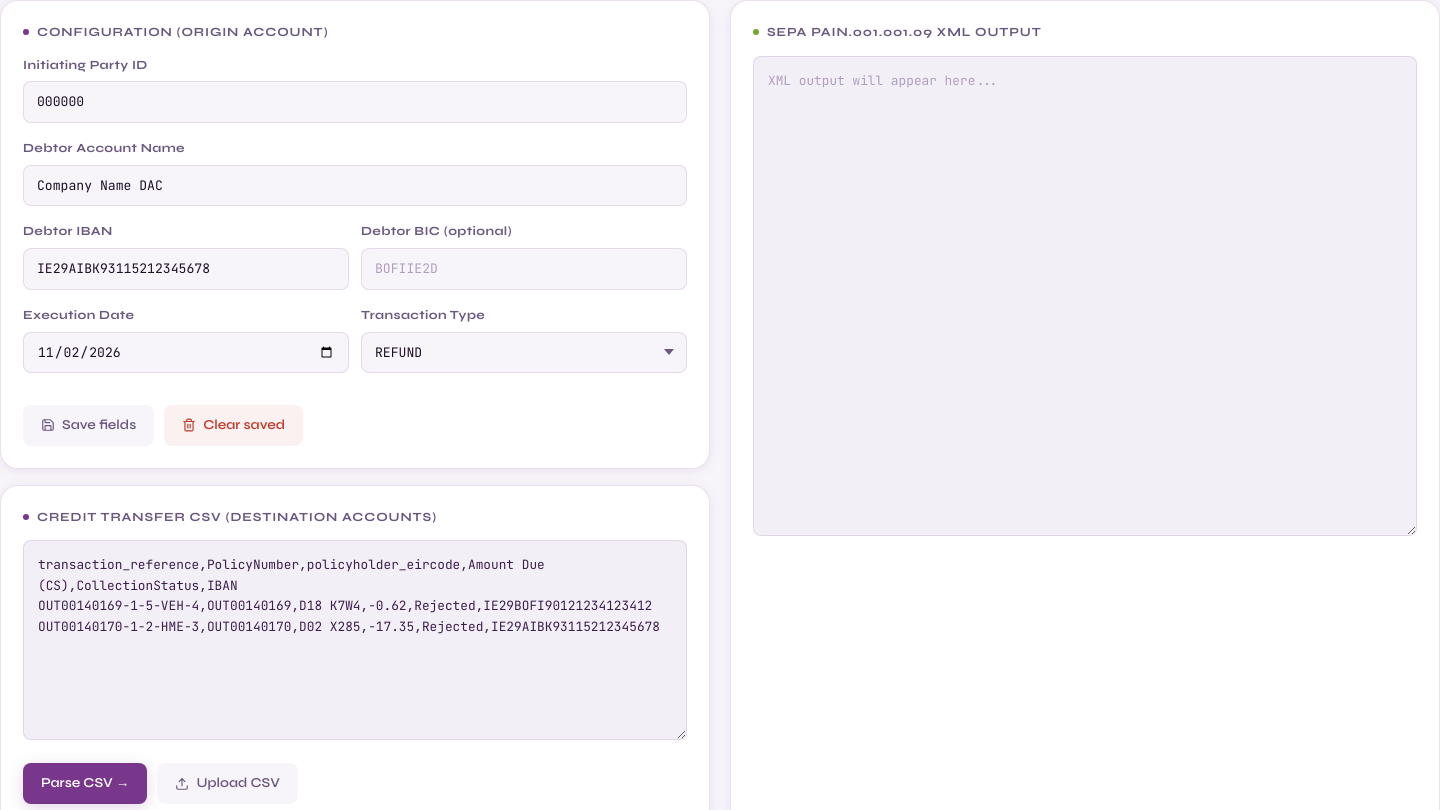
Csv2SepaPain001 › shows an error when the CSV is empty
The width and height of the screenshot is (1440, 810).
Clear the text box with placeholder "refund / payment CSV". click: (355, 640)
box: [23,540,687,740]
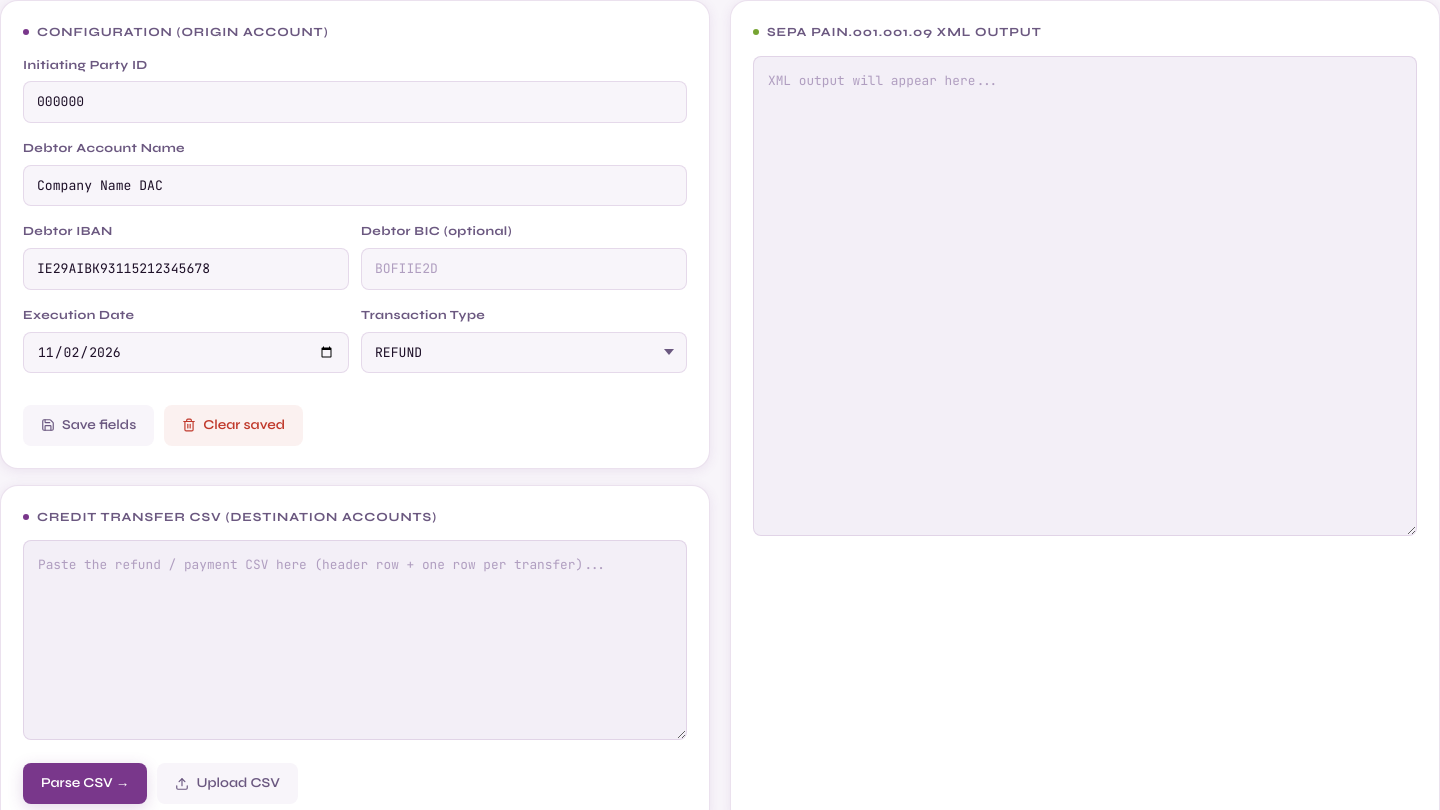
Click the button "Parse CSV →". click: (85, 784)
box: [23,763,148,804]
(page scrolled)
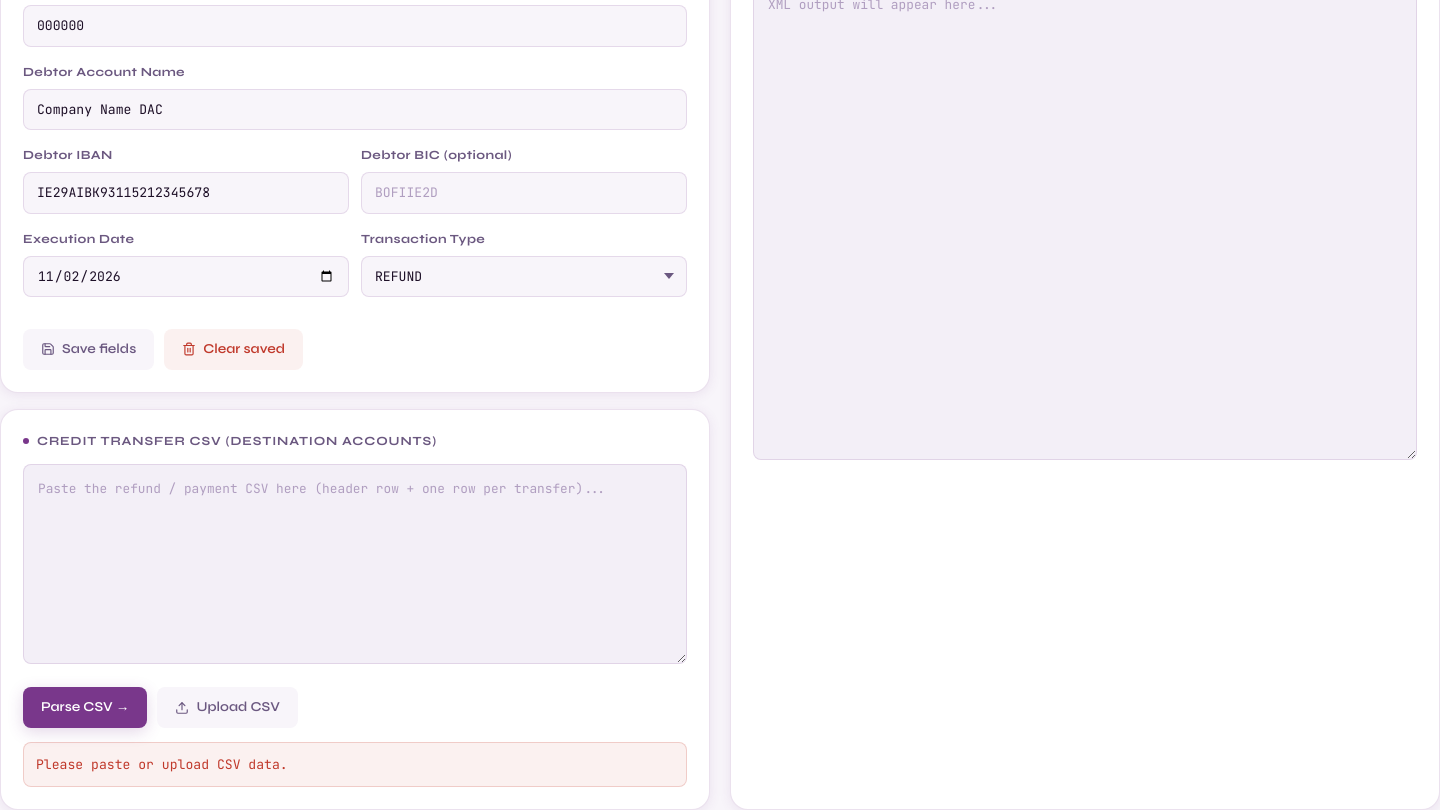
Result: the text with test id "alert-error" shows "paste or upload CSV" at [36,756,288,773]
